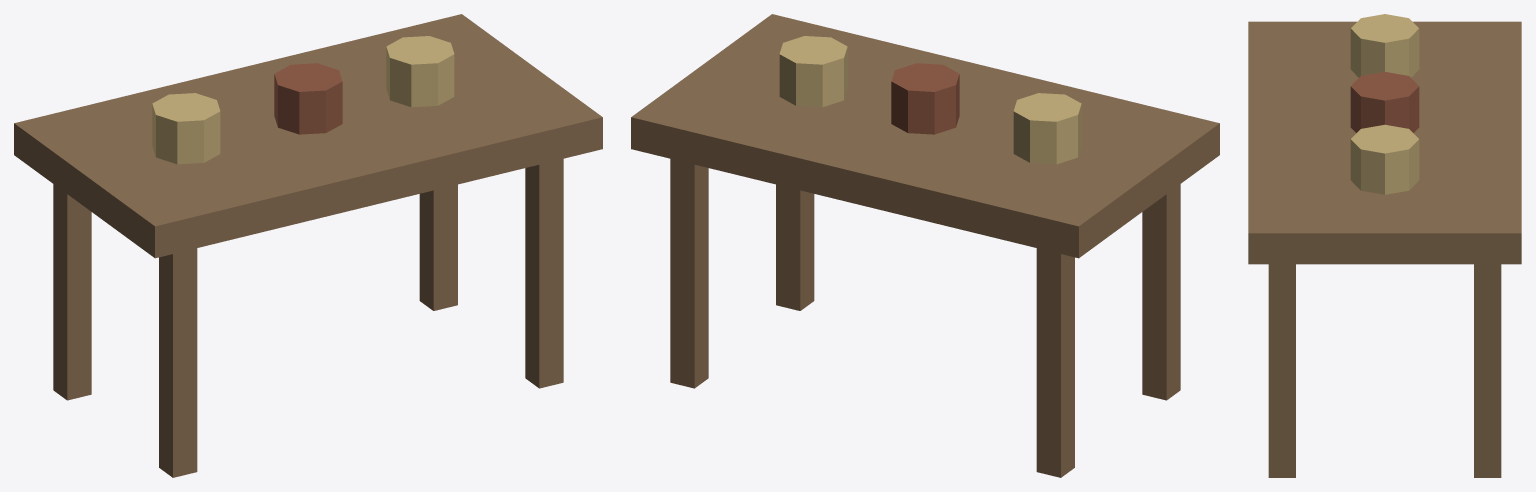
Rendered from capital-table.glb.
3 renders of one model, left to right at view 1: azimuth 30°, elevation 25°; view 2: azimuth 150°, elevation 25°; view 3: azimuth 270°, elevation 25°, orthographic. The views are drawn at different scales.
Visible parts, largest first — view 1: Building; view 2: Building; view 3: Building.
Boxes of the visible parts, x1,y1,x2,y2 form: Building: [14, 14, 602, 477]; Building: [631, 14, 1219, 477]; Building: [1248, 14, 1521, 477].
Bounding box in the file's own units: 44 × 29 × 24.
